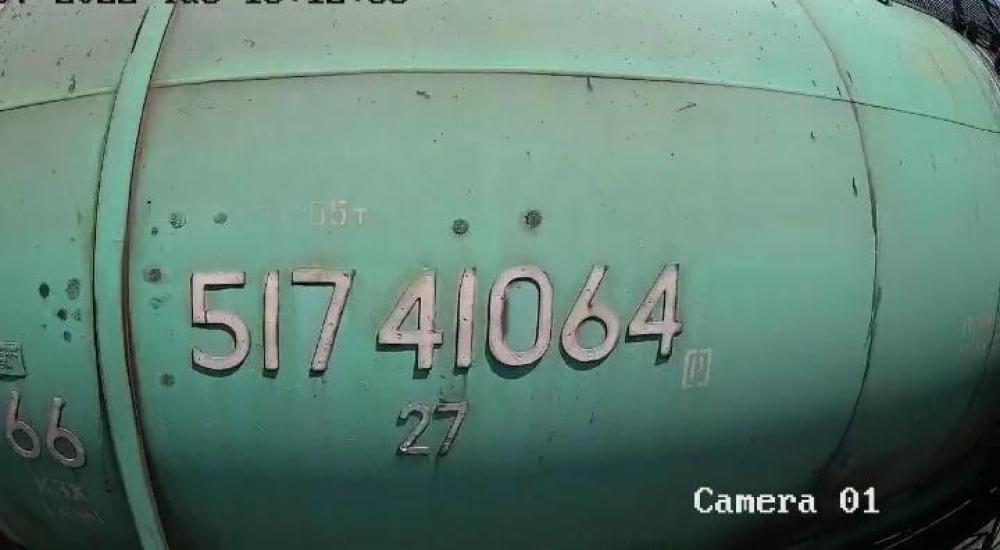Wagon-number: (183, 262, 690, 374)
